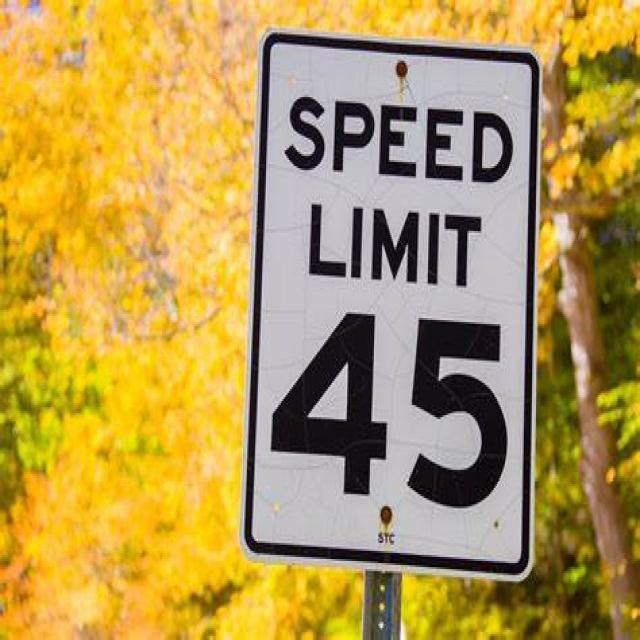speedLimit45: (240, 31, 544, 580)
